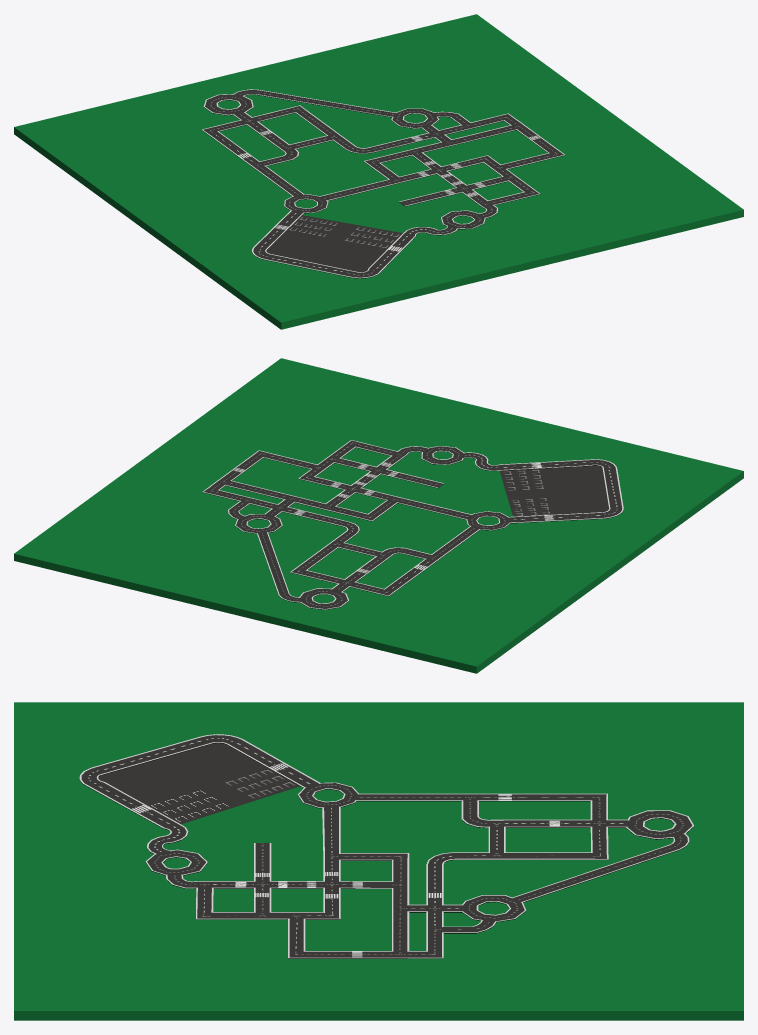
The model's file is level 1.fbx.
3 renders of one model, top to bottom at view 1: azimuth 30°, elevation 25°; view 2: azimuth 150°, elevation 25°; view 3: azimuth 270°, elevation 25°, orthographic. The views are drawn at different scales.
Parts seen in each view (by area): view 1: Plane.001, Plane; view 2: Plane.001, Plane; view 3: Plane.001, Plane.
Boxes of the visible parts, <box> form: Plane.001: <box>14,14,743,329</box>; Plane: <box>201,89,565,278</box>; Plane.001: <box>14,358,743,673</box>; Plane: <box>202,440,623,609</box>; Plane.001: <box>14,702,743,1020</box>; Plane: <box>79,734,693,958</box>.
Bounding box in the file's own units: 25316 × 394 × 25316.
Materials: 10 (7 with a texture image).
